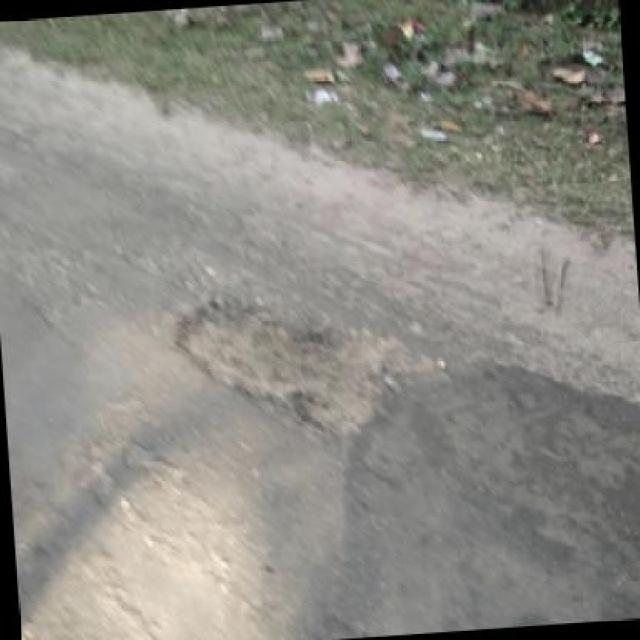pothole1: (167, 284, 396, 445)
